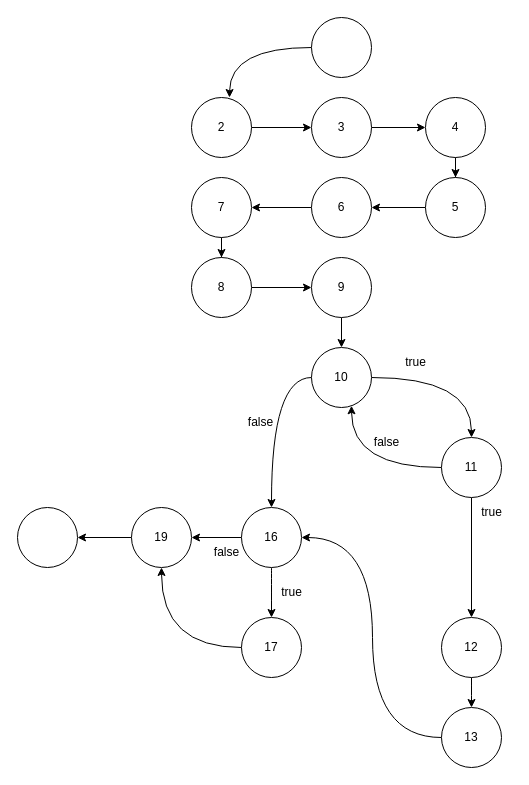
The diagram is 529 pixels wide and 785 high, and some of its shapes have lost their labels. The box of each missing label's shape, as (x1, y1, x2, y2) in pixels:
nf: (16, 506, 78, 568)
ni: (310, 16, 372, 78)
